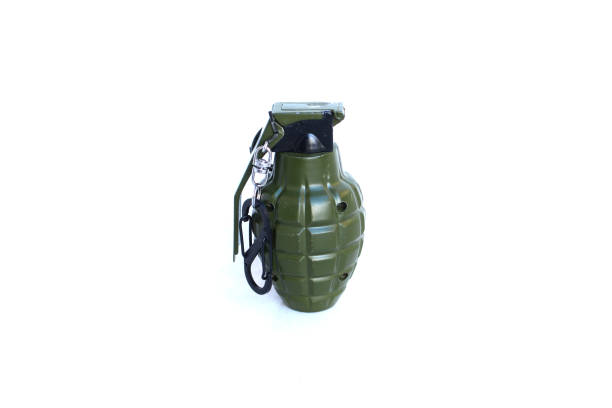e1: (231, 99, 369, 315)
